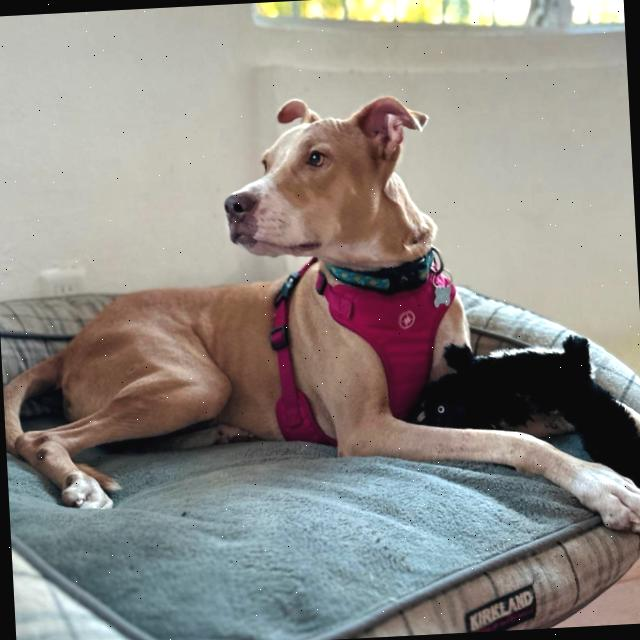labrador_retriever_dog: (202, 72, 464, 285)
